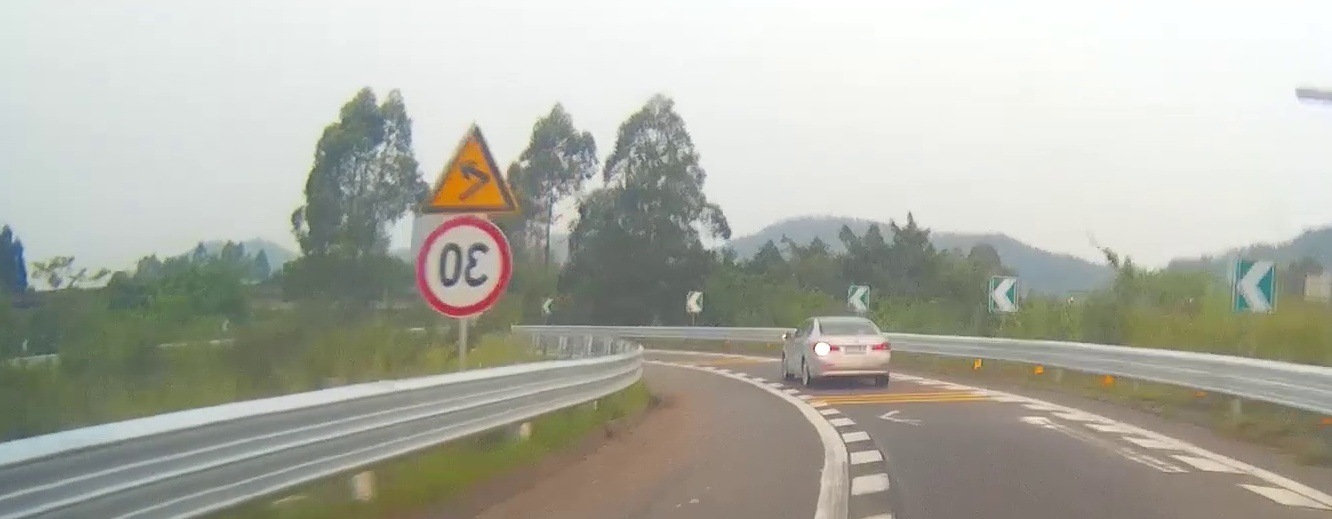L_light: (815, 344, 839, 352)
R_light: (872, 342, 891, 350)
T_light: (840, 322, 850, 325)
day-left: (809, 317, 891, 387)
